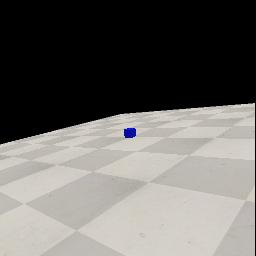box: (124, 128, 136, 138)
